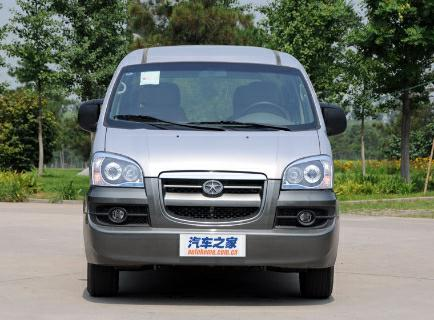江淮-瑞风: (72, 43, 346, 308)
